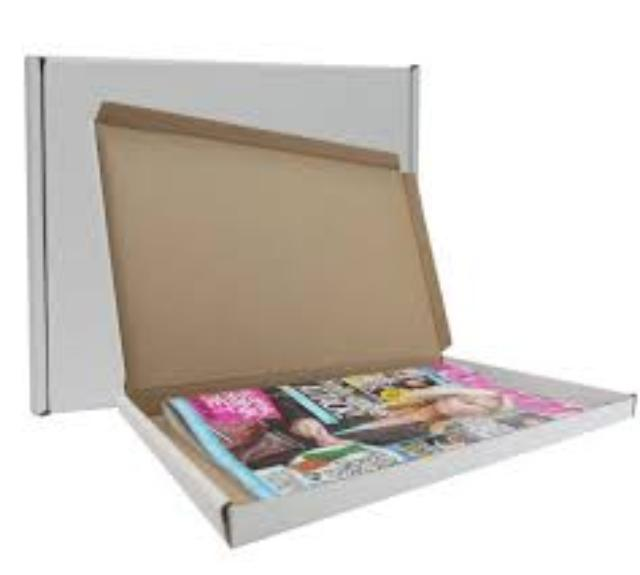cardboard paper: (22, 54, 626, 540)
